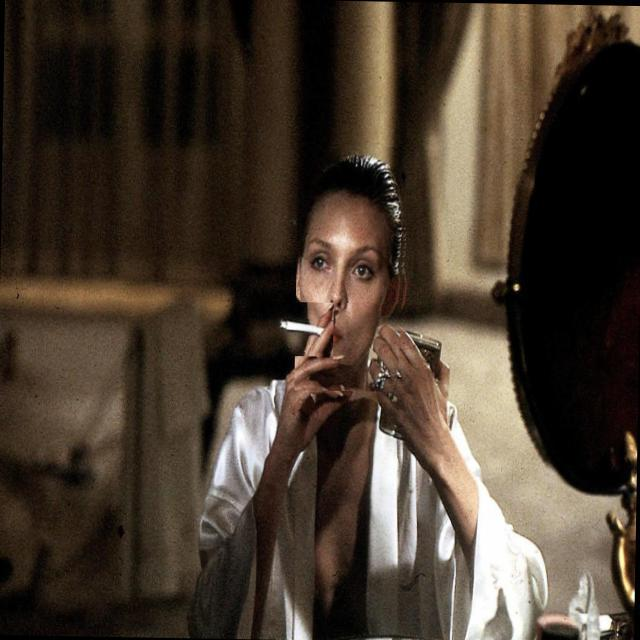cigarette: (268, 301, 334, 357)
